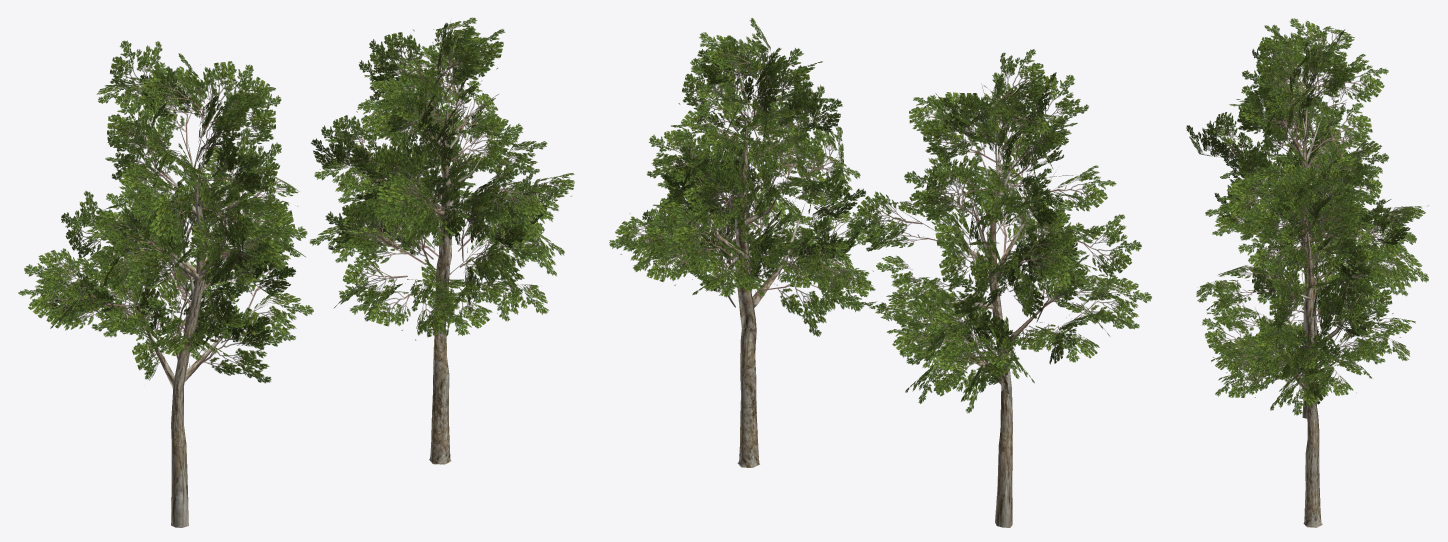
File: treeline.glb
3 views of the same model, side by side, from view 1: azimuth 30°, elevation 25°; view 2: azimuth 150°, elevation 25°; view 3: azimuth 270°, elevation 25° (orthographic). The views are drawn at different scales.
Visible parts, largest first — view 1: Tree_1, Tree_2; view 2: Tree_1, Tree_2; view 3: Tree_2, Tree_1.
Boxes of the visible parts, left/top/right/bottom form: Tree_1: left=18, top=40, right=313, bottom=527; Tree_2: left=309, top=17, right=574, bottom=464; Tree_1: left=845, top=49, right=1151, bottom=527; Tree_2: left=609, top=18, right=878, bottom=467; Tree_2: left=1196, top=153, right=1417, bottom=527; Tree_1: left=1186, top=18, right=1428, bottom=418.
Size of the model in its own units: 1073 by 899 by 521.
Materials: 1 (1 with a texture image).
